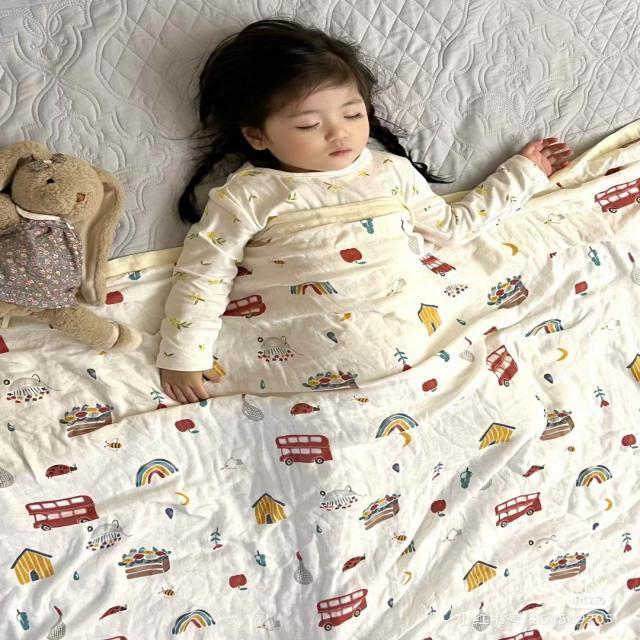child: (141, 20, 571, 398)
